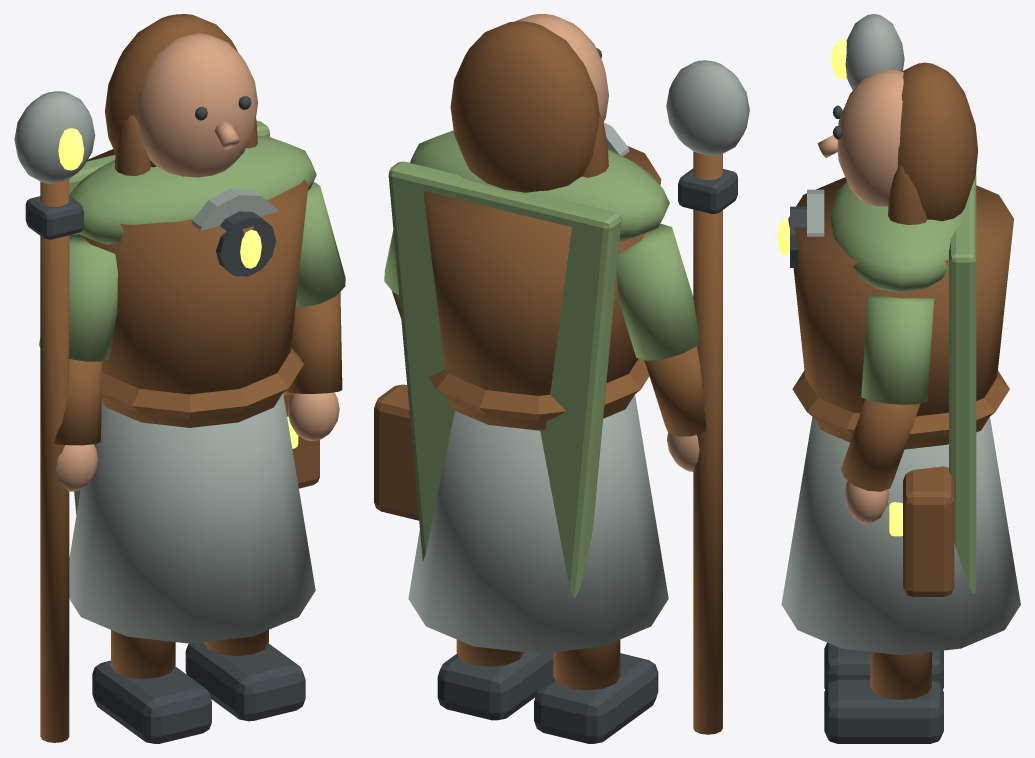
The model's file is SM_EmbermereFenwatchKeeper_Mara_01.fbx.
3 renders of one model, left to right at view 1: azimuth 30°, elevation 25°; view 2: azimuth 150°, elevation 25°; view 3: azimuth 270°, elevation 25°, orthographic. The views are drawn at different scales.
Parts seen in each view (by area): view 1: SM_EmbermereFenwatchKeeper_Mara_01; view 2: SM_EmbermereFenwatchKeeper_Mara_01; view 3: SM_EmbermereFenwatchKeeper_Mara_01.
Part boxes in pixels (x1,y1,x2,y2): SM_EmbermereFenwatchKeeper_Mara_01: [14, 14, 345, 743]; SM_EmbermereFenwatchKeeper_Mara_01: [374, 14, 749, 743]; SM_EmbermereFenwatchKeeper_Mara_01: [778, 14, 1020, 743].
Bounding box in the file's own units: 107 × 71 × 208.
